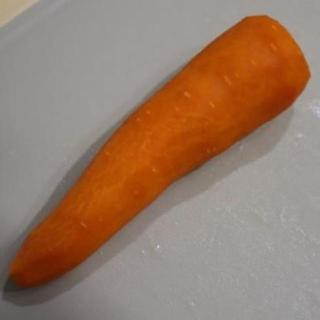carrot: (6, 14, 315, 298)
